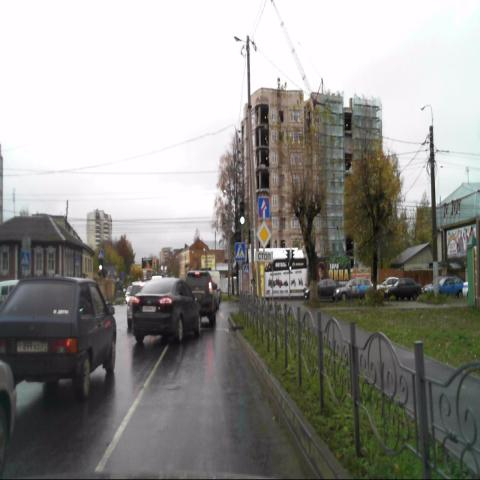5_6: (258, 196, 270, 218)
